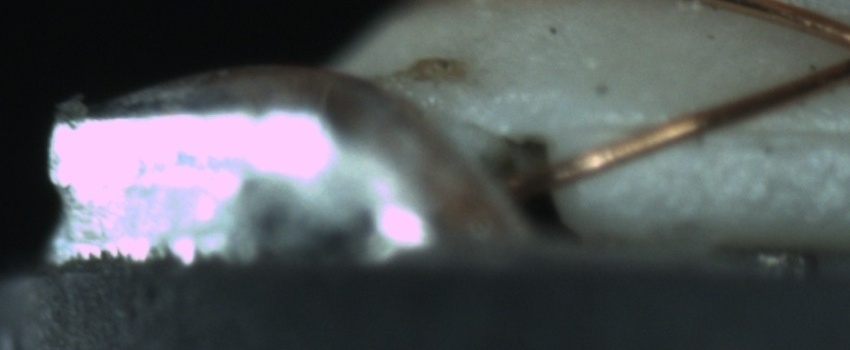DL: (617, 97, 849, 165)
